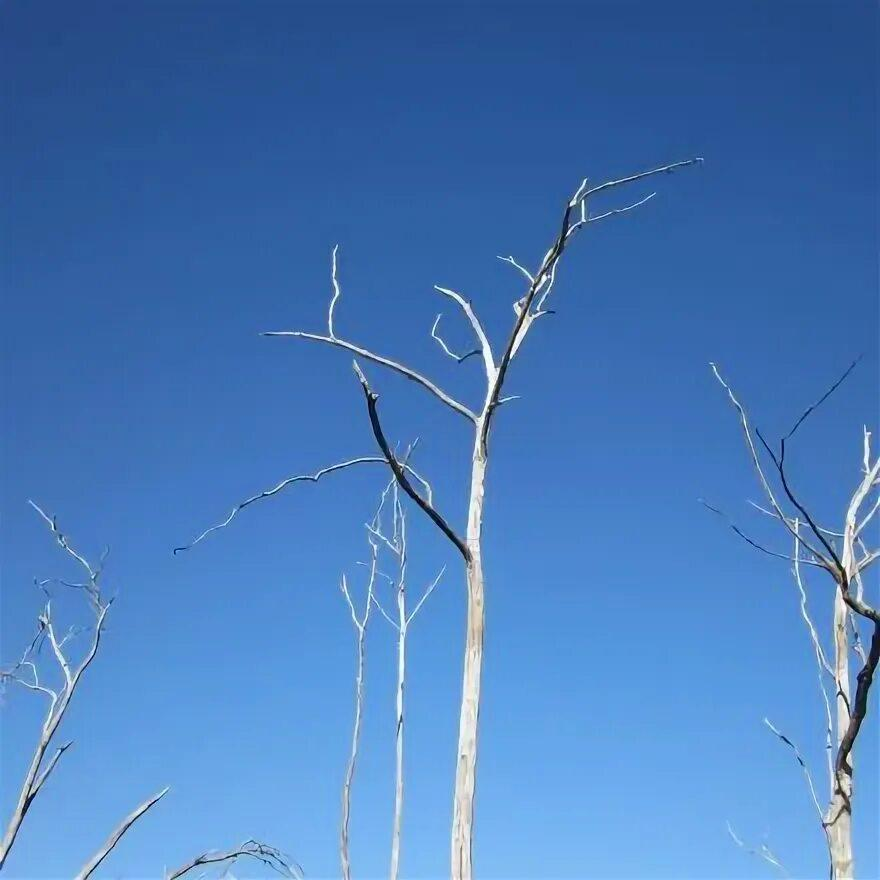baldness: (174, 158, 702, 879), (713, 364, 879, 879), (0, 502, 112, 871)
